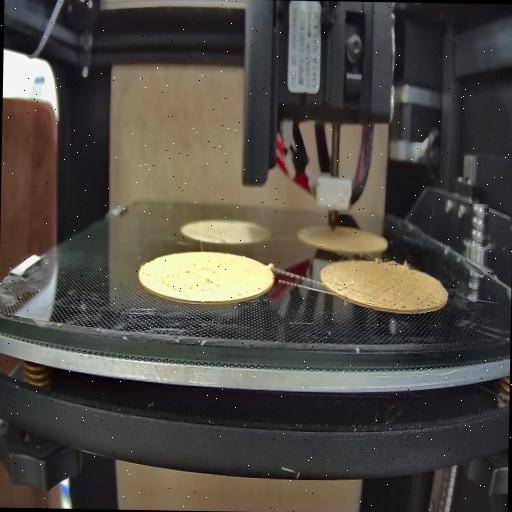under_extrusion: (158, 258, 220, 299), (378, 275, 434, 313), (330, 280, 364, 300), (236, 283, 263, 301)
